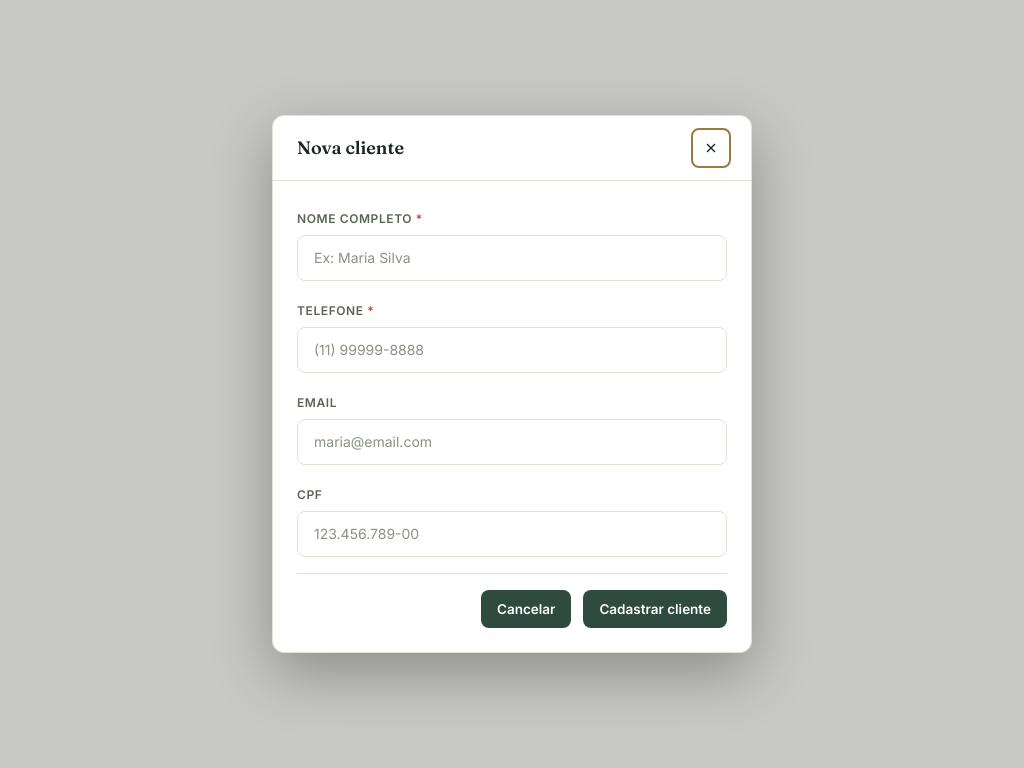
Test: CadastroModal › deve mostrar toast de erro ao submeter sem nome
Note: Preenche só telefone
Type "11911112222" into the field with placeholder "(11) 99999-8888" at (512, 350), box [297,327,727,373]
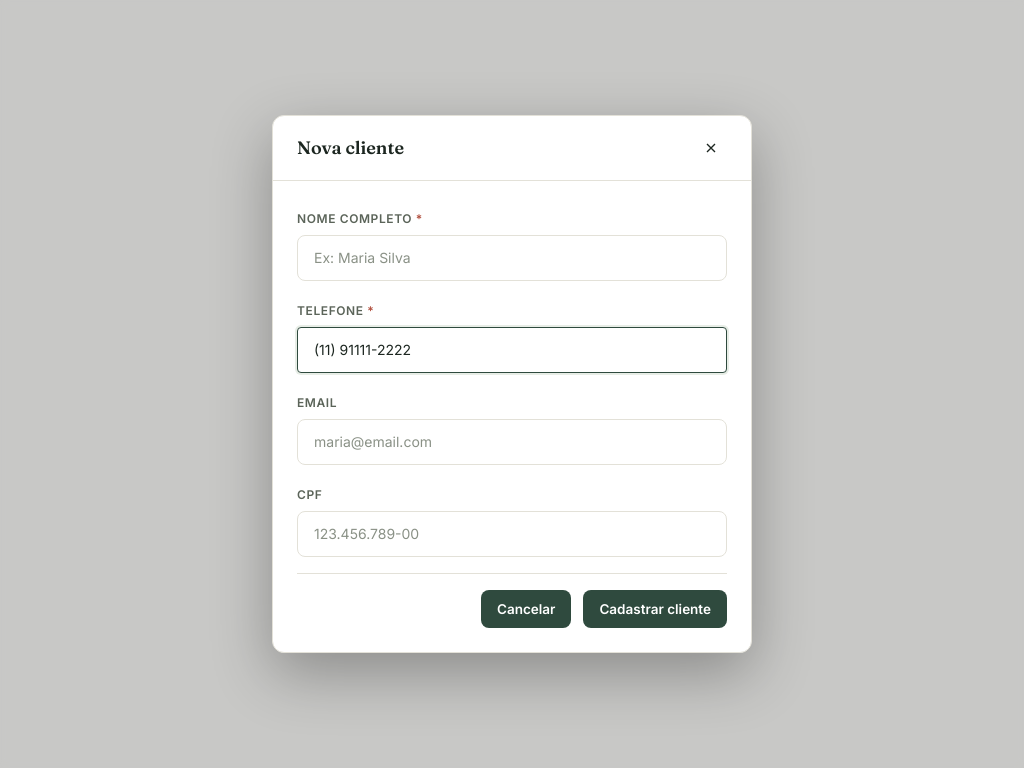
Note: Submete o formulário clicando no botão (apenas UMA ação)
Click the button "Cadastrar cliente" at (655, 609), box [583,590,727,628]
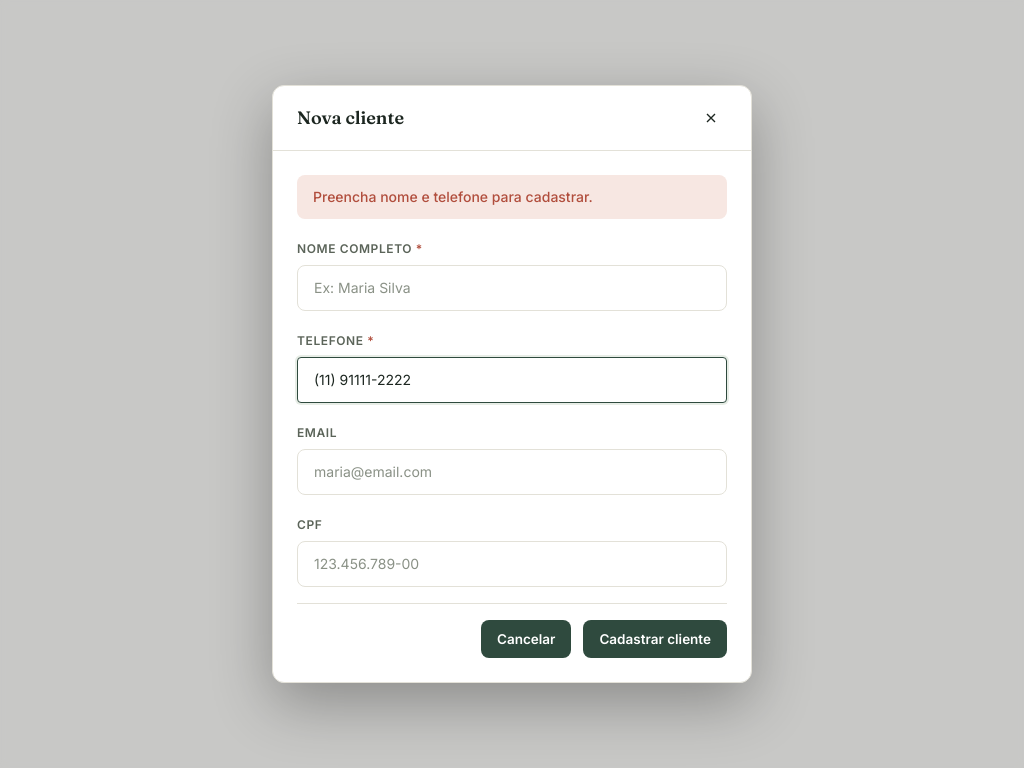
Expected: the text "Preencha nome e telefone para cadastrar." is shown, [297,175,727,219]
